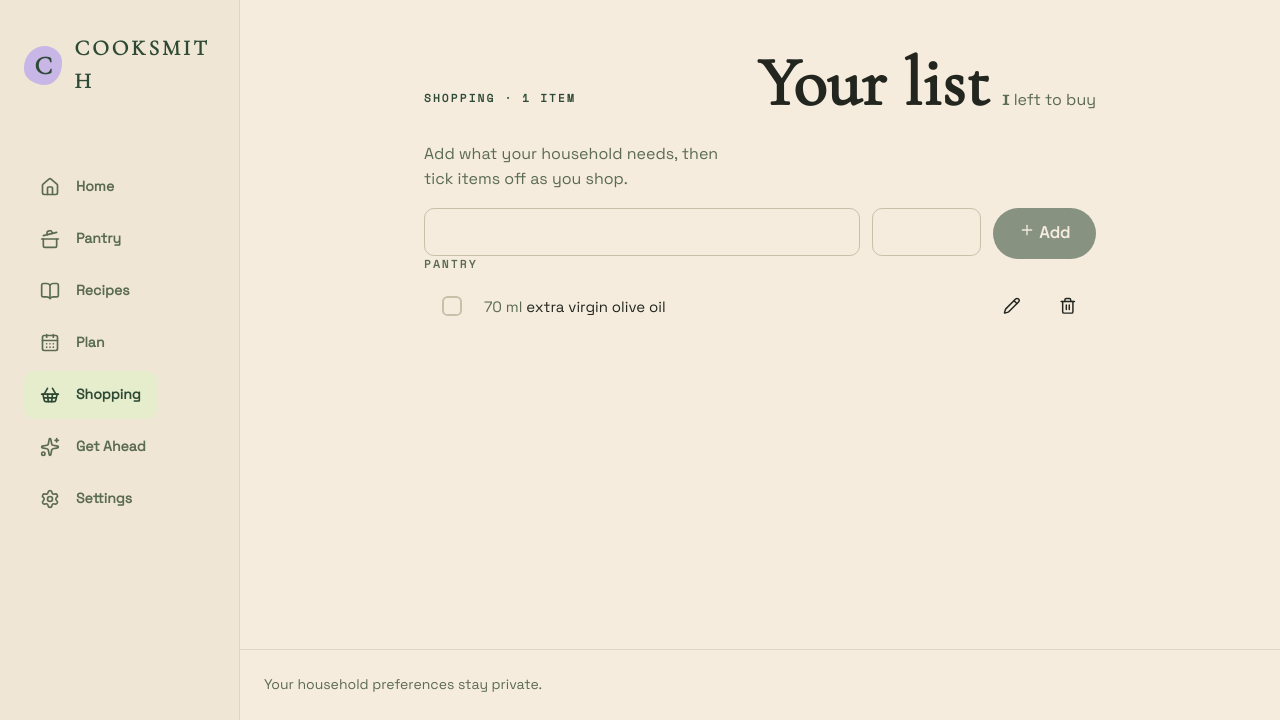
clean combined purchases › edits the combined metric amount and removes the whole purchase with confirmation
Expected: the text "70 ml" is shown, [484, 297, 526, 316]
Click the button named "Edit extra virgin olive oil" at (1012, 306), box [988, 282, 1036, 330]
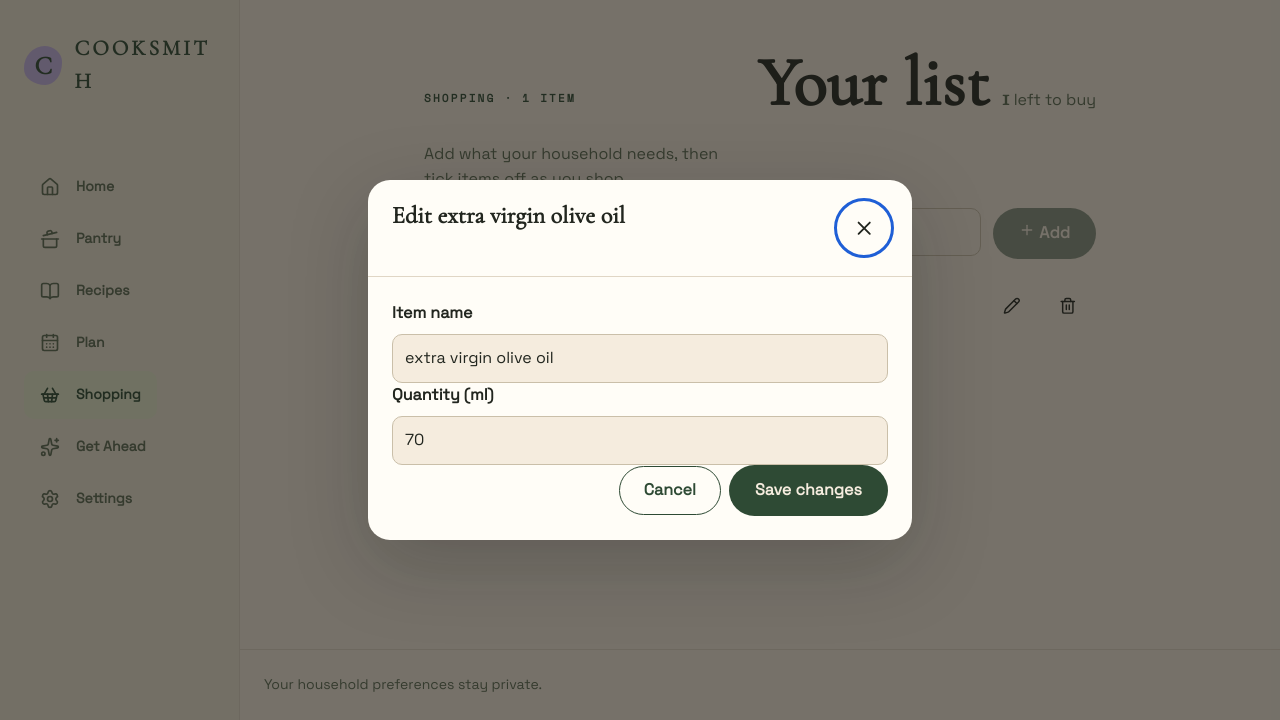
Expected: the field labelled "Quantity (ml)" holds "70"
Replace the text in the field labelled "Quantity (ml)" with "80" at (640, 440), box [392, 416, 888, 465]
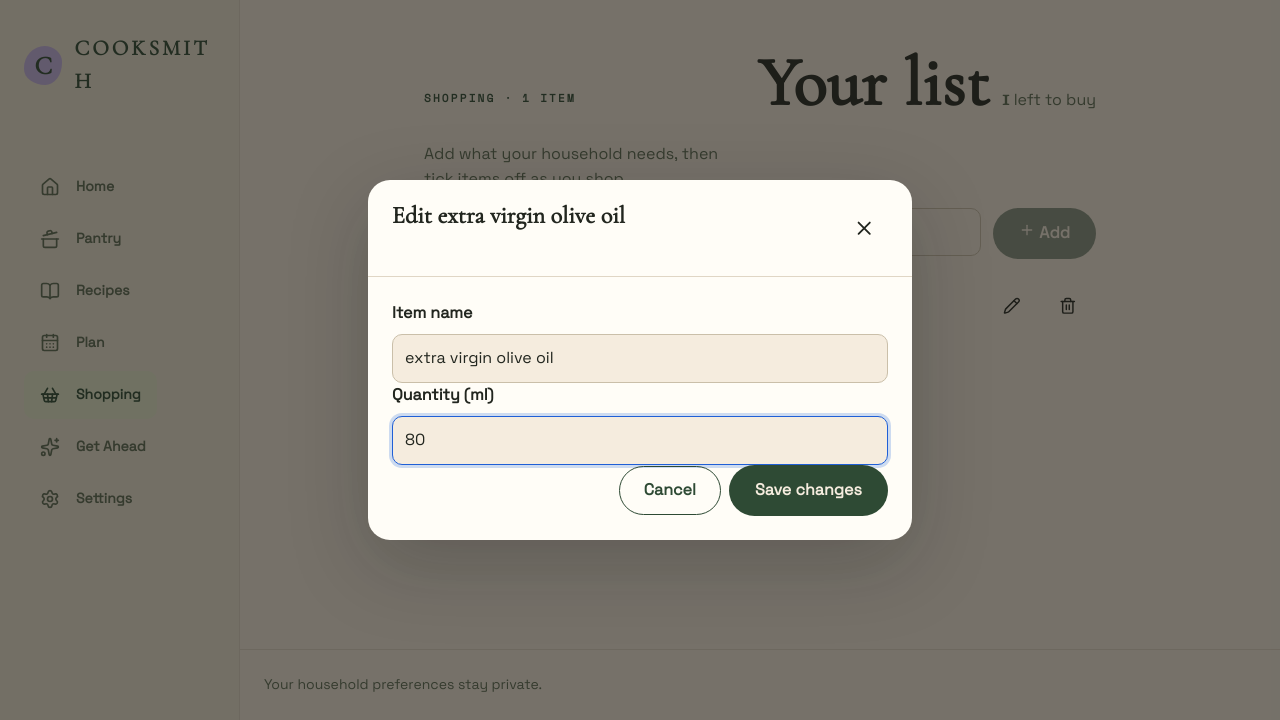
Click the button "Save changes" at (808, 490), box [729, 465, 888, 516]
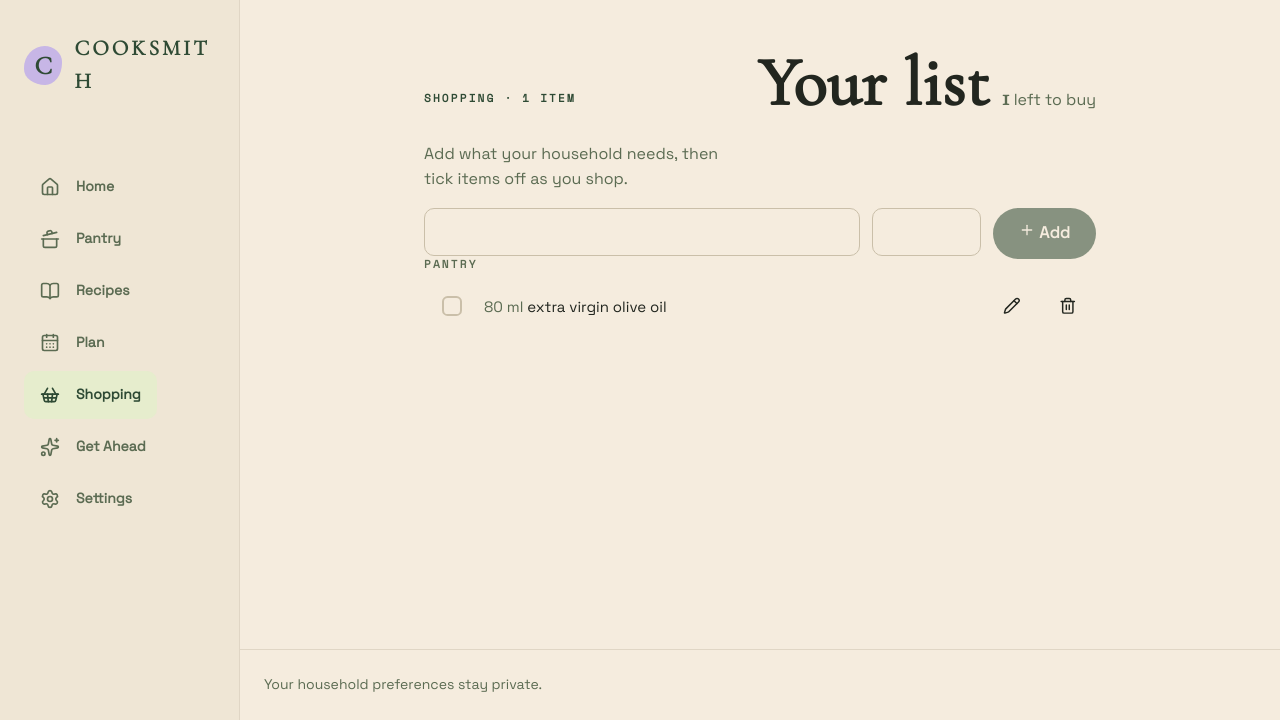
Expected: the text "80 ml" is shown, [484, 297, 527, 316]
Click the button named "Remove extra virgin olive oil" at (1068, 306), box [1044, 282, 1092, 330]
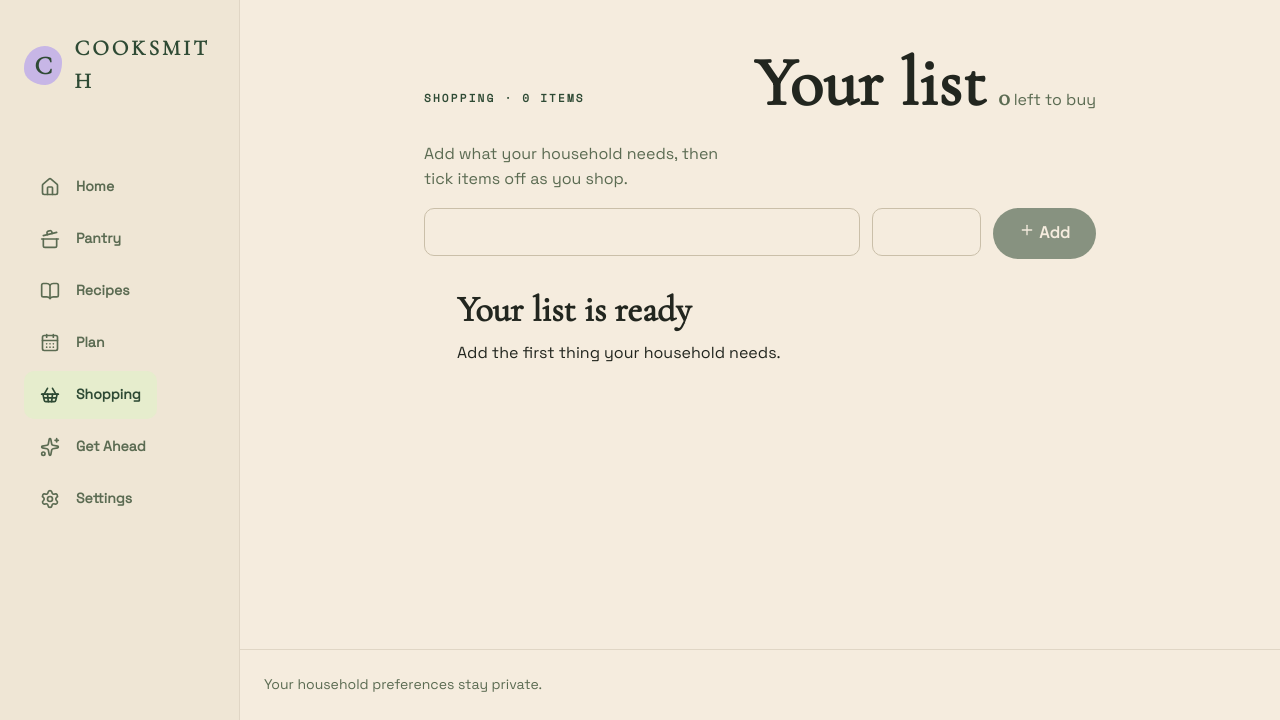
Expected: the heading "Your list is ready" is shown, [457, 288, 691, 331]
